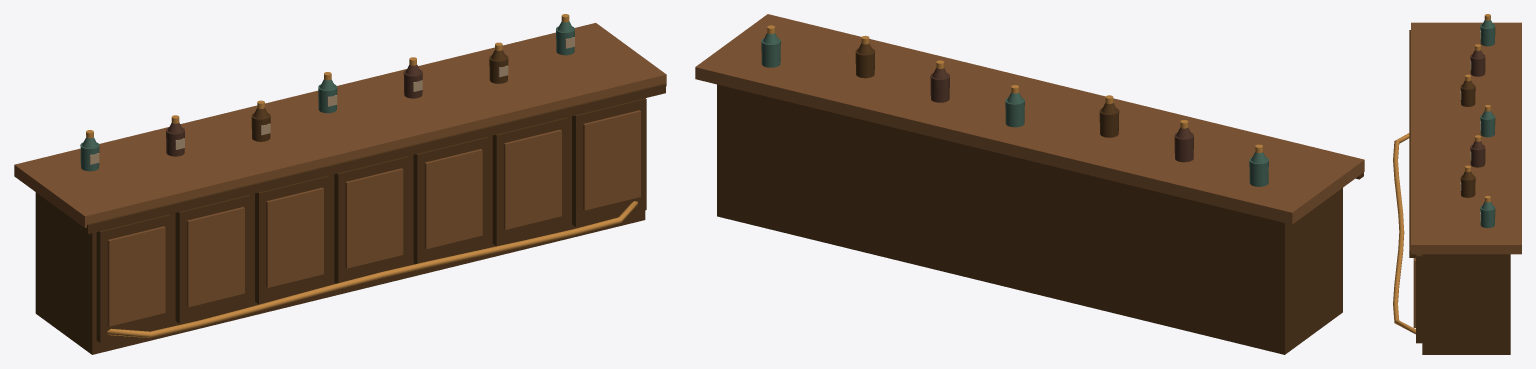
File: mia-bar_counter.glb
The picture shows the model from 3 angles, left to right: view 1: azimuth 30°, elevation 25°; view 2: azimuth 150°, elevation 25°; view 3: azimuth 270°, elevation 25°; orthographic projection. The views are drawn at different scales.
Visible parts, largest first — view 1: Body_oak, Body_wood, Body_brass, Body_sage, Body_glaze, Body_page-beige; view 2: Body_wood, Body_oak, Body_sage, Body_glaze; view 3: Body_oak, Body_wood, Body_brass, Body_sage, Body_glaze.
Part boxes in pixels (left/top/right/bottom): Body_oak: left=14, top=23, right=666, bottom=326; Body_wood: left=35, top=50, right=665, bottom=354; Body_brass: left=86, top=14, right=637, bottom=337; Body_sage: left=80, top=21, right=574, bottom=171; Body_glaze: left=166, top=64, right=422, bottom=156; Body_page-beige: left=89, top=37, right=574, bottom=164; Body_wood: left=717, top=43, right=1363, bottom=354; Body_oak: left=695, top=14, right=1364, bottom=224; Body_sage: left=761, top=33, right=1268, bottom=186; Body_glaze: left=930, top=68, right=1193, bottom=162; Body_oak: left=1411, top=22, right=1521, bottom=327; Body_wood: left=1409, top=30, right=1510, bottom=354; Body_brass: left=1393, top=14, right=1490, bottom=334; Body_sage: left=1480, top=20, right=1495, bottom=228; Body_glaze: left=1470, top=50, right=1485, bottom=167.
Size of the model in its own units: 4.69 by 1.41 by 1.15.
